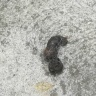Dog: (43, 34, 68, 75)
